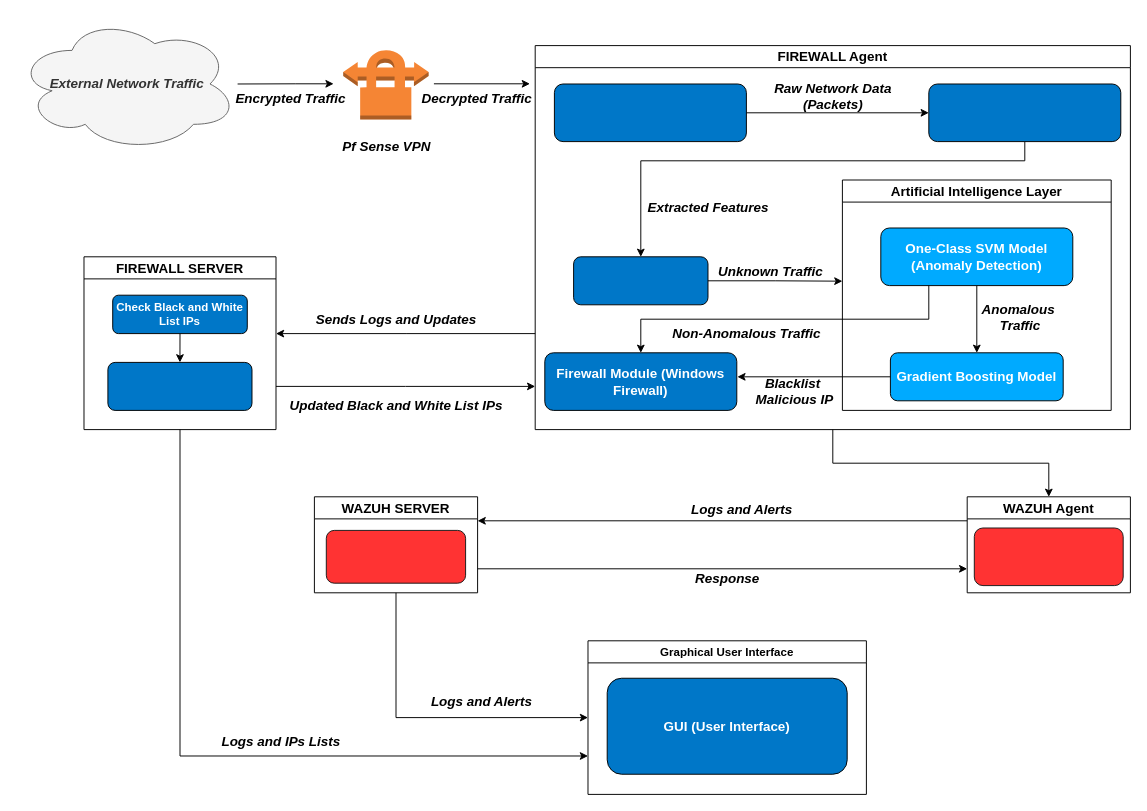
This 1147x811 diagram has some shape labels left out. The centre of each missing label's shape, as x and y in pixels:
"Check Logs Manage Agents" goes at (395,556).
"Collect Logs Send logs to Server" goes at (1048,556).
"Feature Extraction Module" goes at (1024,112).
"Traffic Collect Module (Dump Cap)" goes at (649,112).
"Update Black and White List IPs on all Agents" goes at (179,385).
"White and Black List Check" goes at (640,280).
